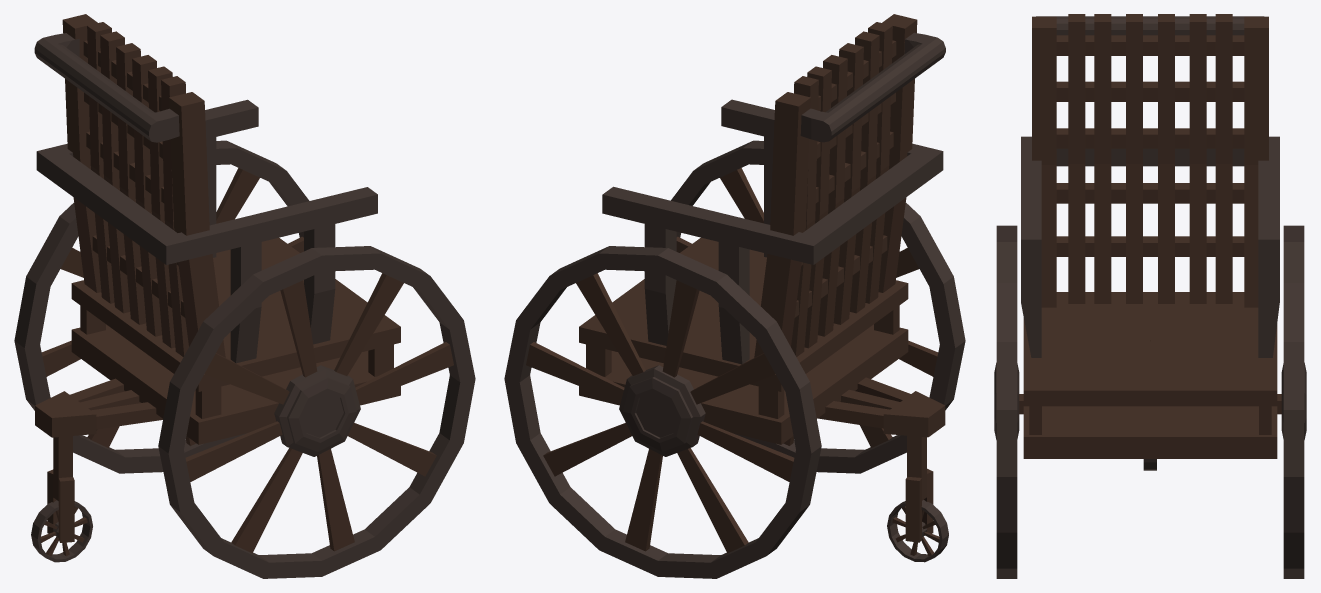
The model's file is FauteuilBran.fbx.
The picture shows the model from 3 angles, left to right: view 1: azimuth 30°, elevation 25°; view 2: azimuth 150°, elevation 25°; view 3: azimuth 270°, elevation 25°; orthographic projection.
Visible parts, largest first — view 1: FauteuilBran; view 2: FauteuilBran; view 3: FauteuilBran.
Part boxes in pixels (x1,y1,x2,y2): FauteuilBran: (14, 14, 475, 578); FauteuilBran: (504, 14, 965, 578); FauteuilBran: (994, 14, 1306, 578).
Size of the model in its own units: 115 by 148 by 85.45.
